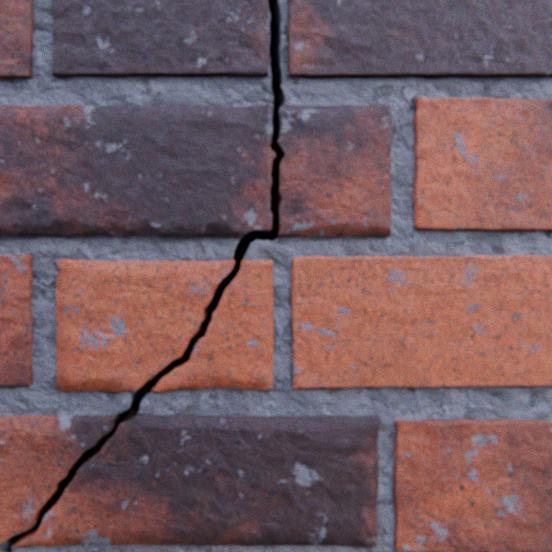brick: (291, 255, 551, 388), (393, 418, 551, 551), (287, 0, 551, 79), (412, 98, 551, 231), (52, 0, 268, 78), (0, 254, 33, 385), (0, 0, 35, 80)
broken_brick: (13, 414, 378, 546), (0, 104, 274, 236), (56, 259, 234, 391), (152, 260, 272, 391), (0, 414, 116, 544), (277, 105, 390, 236)
crack: (1, 0, 284, 551)
